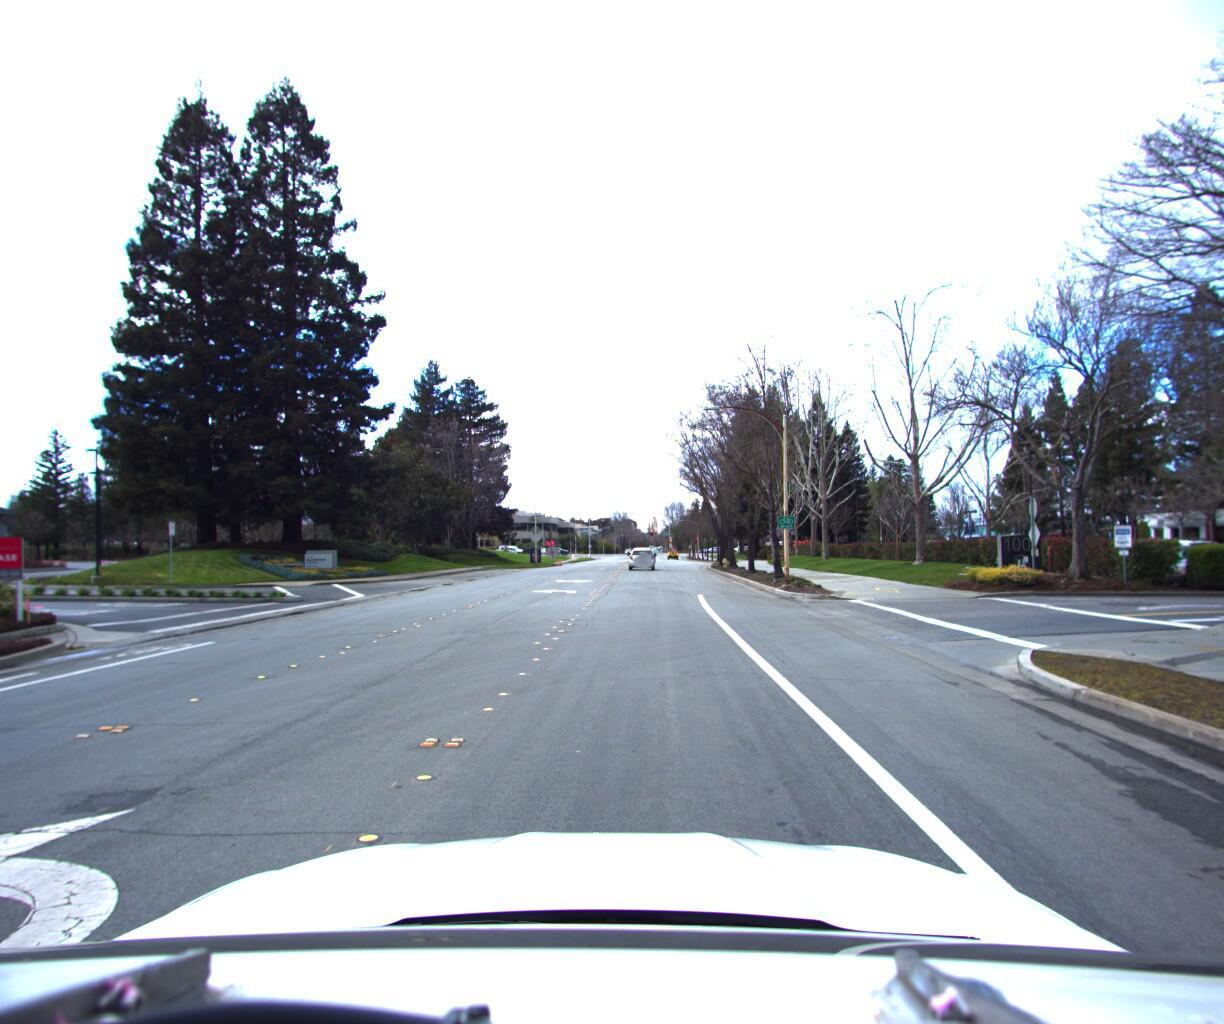car: (624, 541, 655, 566)
